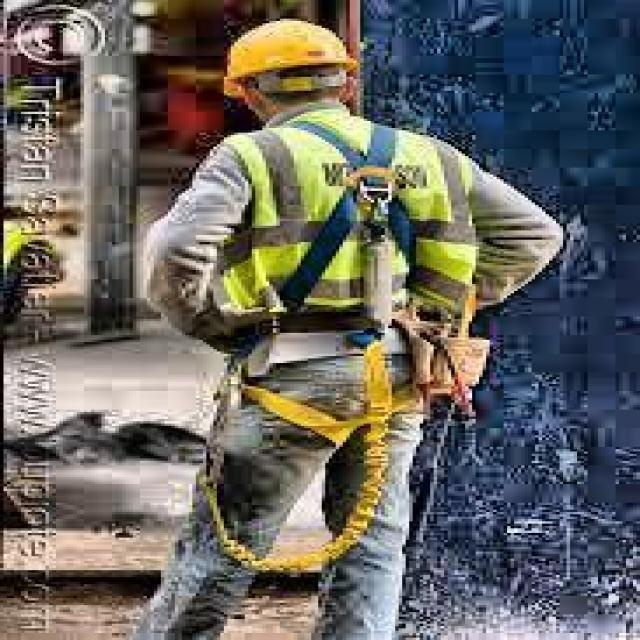Arnes_seguridad: (199, 113, 458, 418)
